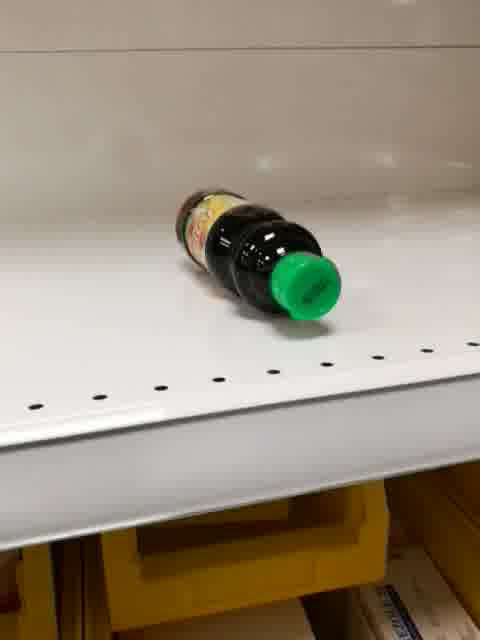cookingoil: (171, 183, 343, 324)
